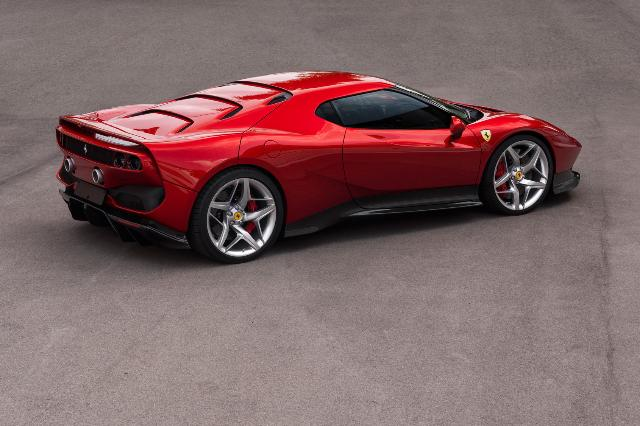ferrari: (55, 70, 583, 264)
